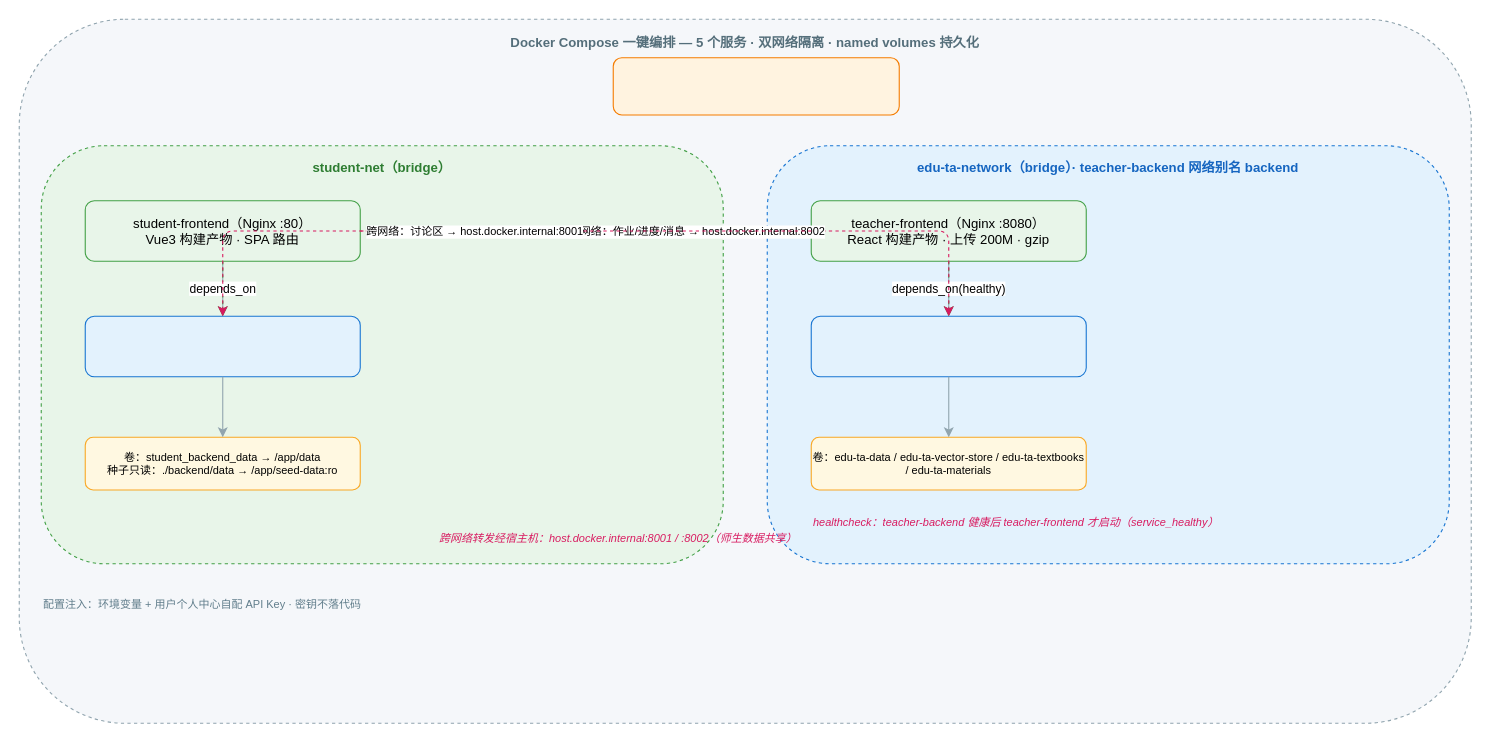
This 1491x743 diagram has some shape labels left out. Here are the shapes that lost their labels. From the top down, the centre of each, then its label:
At [755,86]: "Portal（nginx:alpine） 宿主机 :9000 → 容器 80 · 挂载 ./portal/index.html:ro".
At [222,346]: "student-backend（FastAPI :8001→8000） 编程实验室 · 能力验证 · RAG · 导师 SSE".
At [948,346]: "teacher-backend（FastAPI :8002→8000） 作业持久化 · AI 批改 · 通信 SSE · 知识库".
